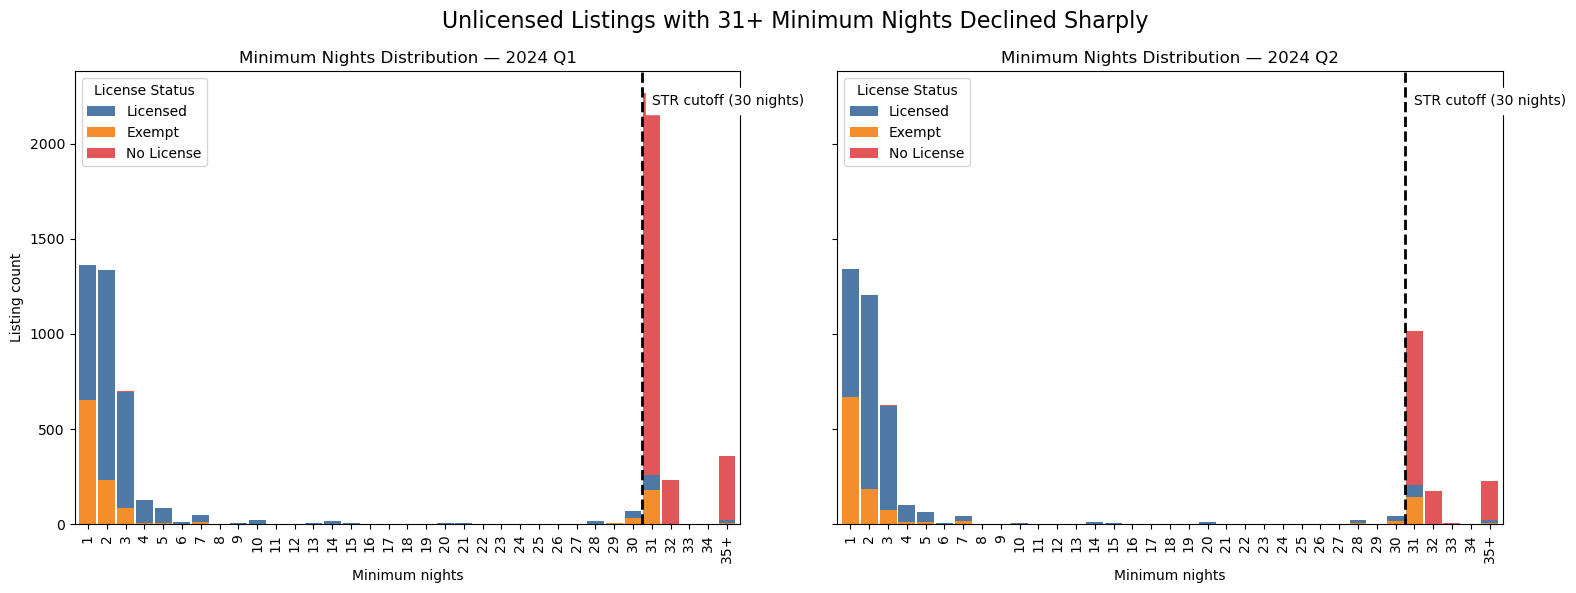

Layout of this report page (visuals, bound fields, positions):
{"tool":"tableau","page":{"name":"M Minimum Nights","canvas":[1000,1000],"units":"permille","ordinal":12},"visuals":[{"type":"worksheet","title":"Minimum Nights","mark":"Bar","rows":["listing_id"],"cols":["Calculation_1291970146162294785"],"box":[21.3,12,957.3,976]}]}

Visuals, with their boxes on the dashboard's canvas, which has no fixed pixel size, in thousandths of its width and height (x1, y1, x2, y2). These are canvas units, not pixel positions in the 1576x593 screenshot, which may show the page scaled, cropped or inside an application window:
"Minimum Nights" worksheet (Bar marks): (left=21, top=12, right=979, bottom=988)
